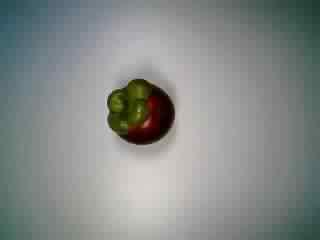mangosteen: (100, 74, 176, 149)
